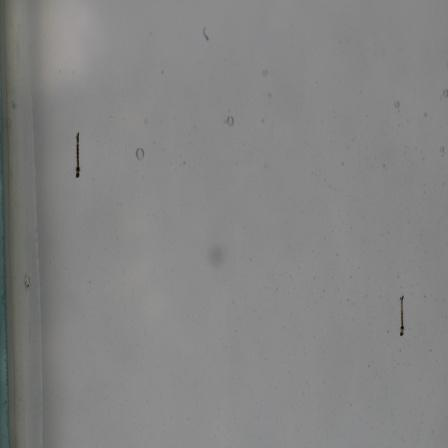Jentik-Nyamuk: (69, 128, 87, 183), (394, 291, 410, 342)
